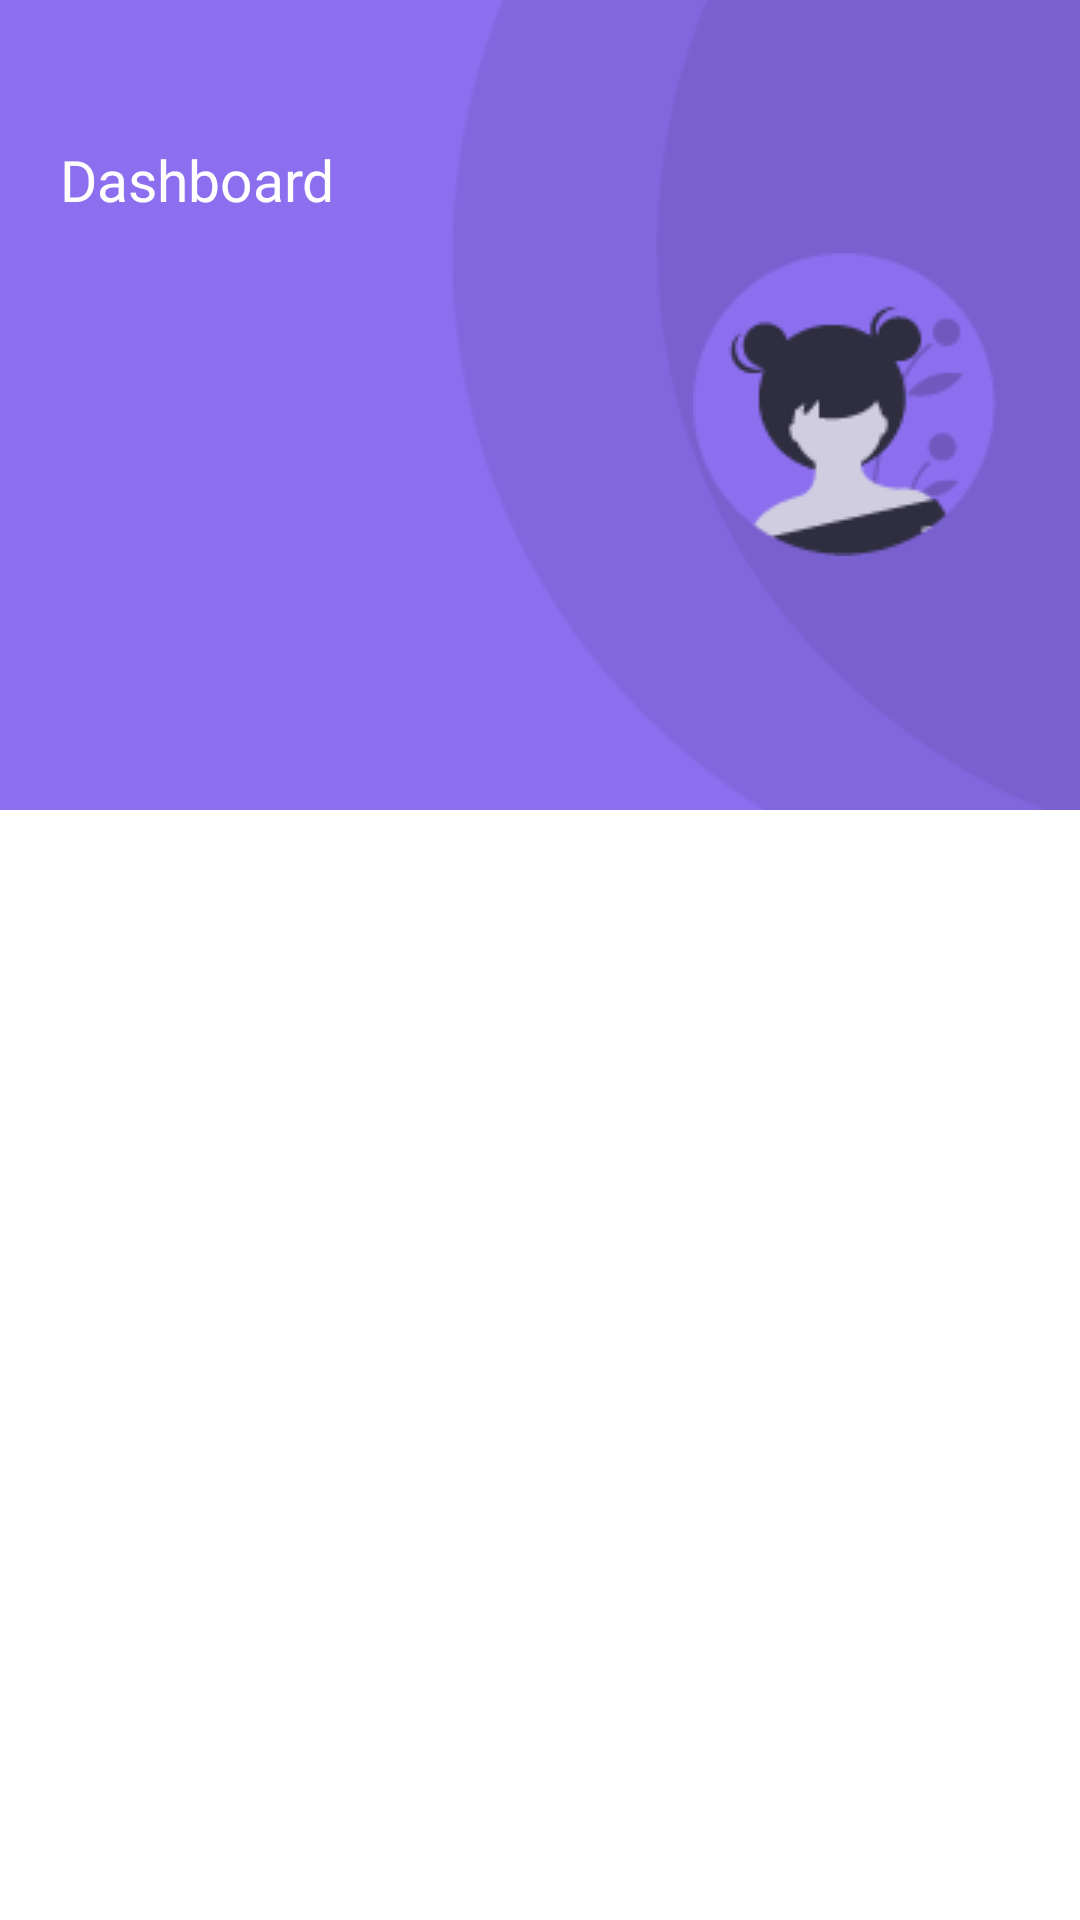

Where to tap for icons on this 1080*1920 app screen, as (x=x, y=y):
teacher photo: (x=843, y=404)
